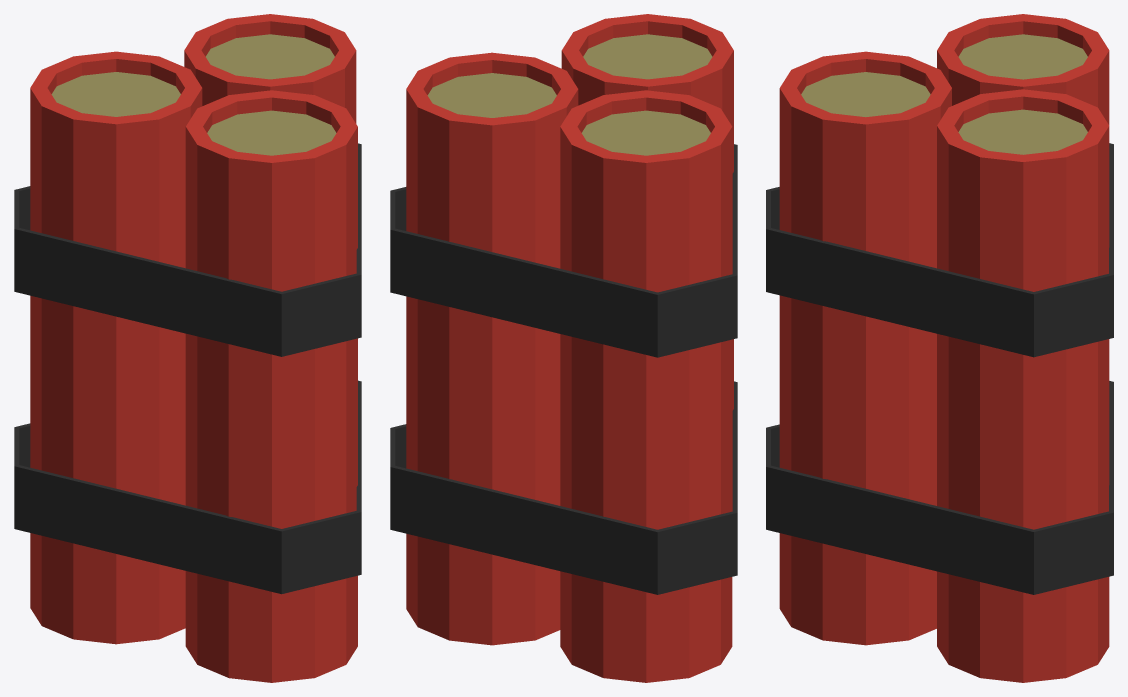
The model's file is dynamite.fbx.
3 views of the same model, side by side, from view 1: azimuth 30°, elevation 25°; view 2: azimuth 150°, elevation 25°; view 3: azimuth 270°, elevation 25° (orthographic).
Visible parts, largest first — view 1: dynamiteStick01, dynamiteStick03, elasticBand01, elasticBand02, dynamiteStick02; view 2: dynamiteStick03, dynamiteStick02, elasticBand02, elasticBand01, dynamiteStick01; view 3: dynamiteStick02, dynamiteStick01, elasticBand02, elasticBand01, dynamiteStick03.
Part boxes in pixels (x1,y1,x2,y2): dynamiteStick01: (185, 90, 357, 682); dynamiteStick03: (30, 51, 202, 644); elasticBand01: (14, 380, 361, 594); elasticBand02: (14, 143, 361, 356); dynamiteStick02: (184, 14, 356, 123); dynamiteStick03: (560, 90, 732, 682); dynamiteStick02: (406, 52, 578, 645); elasticBand02: (390, 144, 737, 357); elasticBand01: (390, 381, 737, 594); dynamiteStick01: (561, 14, 733, 511); dynamiteStick02: (937, 89, 1109, 682); dynamiteStick01: (779, 51, 951, 645); elasticBand02: (766, 143, 1113, 357); elasticBand01: (766, 381, 1113, 594); dynamiteStick03: (937, 14, 1109, 124).
Size of the model in its own units: 13.98 by 20 by 12.11.
